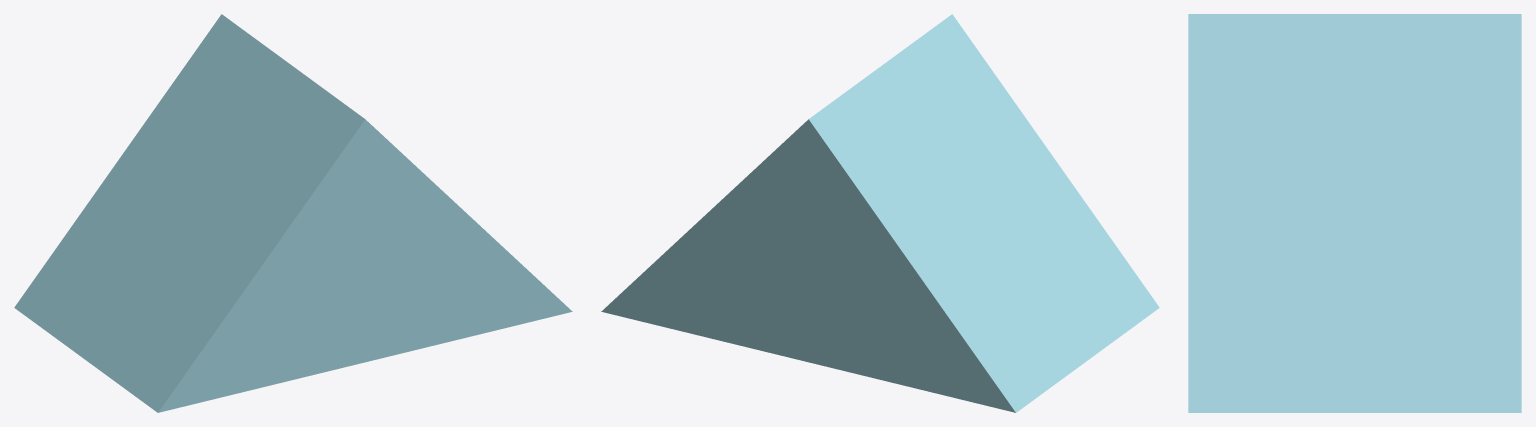
File: ice-ridge.glb
3 renders of one model, left to right at view 1: azimuth 30°, elevation 25°; view 2: azimuth 150°, elevation 25°; view 3: azimuth 270°, elevation 25°, orthographic. The views are drawn at different scales.
Bounding box in the file's own units: 5 × 2.8 × 3.
